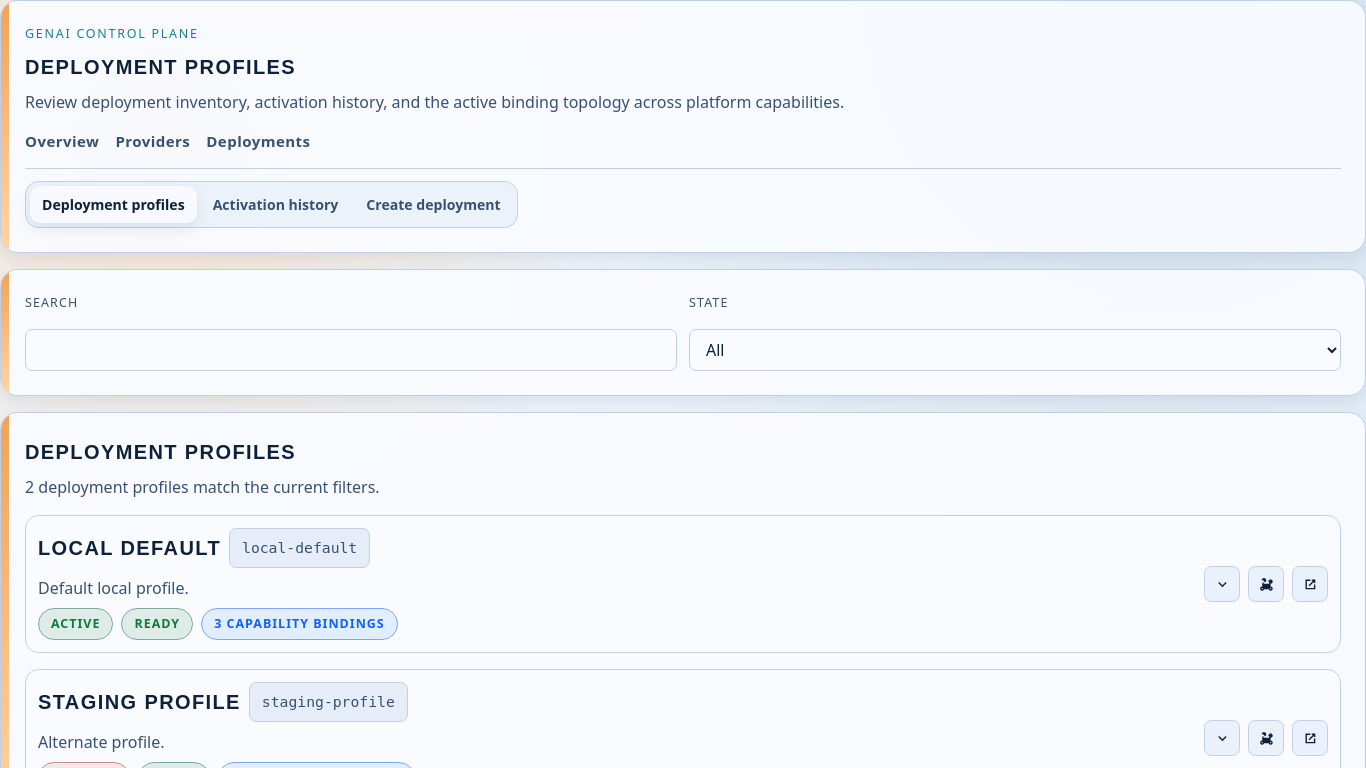
it: PlatformDeploymentsPage › opens a deployment lifecycle modal from a profile row
Click the button named "View lifecycle for Local Default": (1266, 584) top-left (1248, 566), bottom-right (1284, 602)
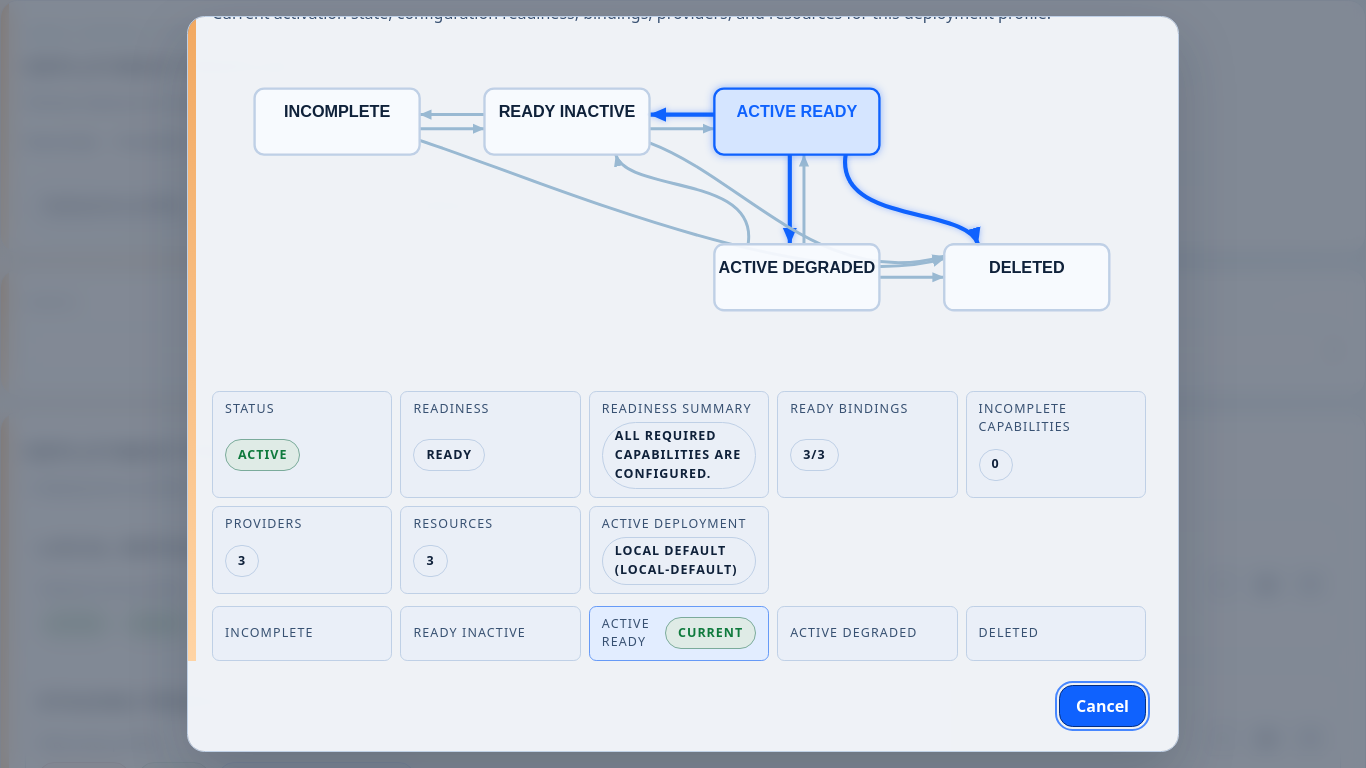
Now the dialog is shown
Now the text "Status" is shown, box top-left (225, 400), bottom-right (275, 417)
Now the text "Active" is shown, box top-left (225, 440), bottom-right (300, 472)
